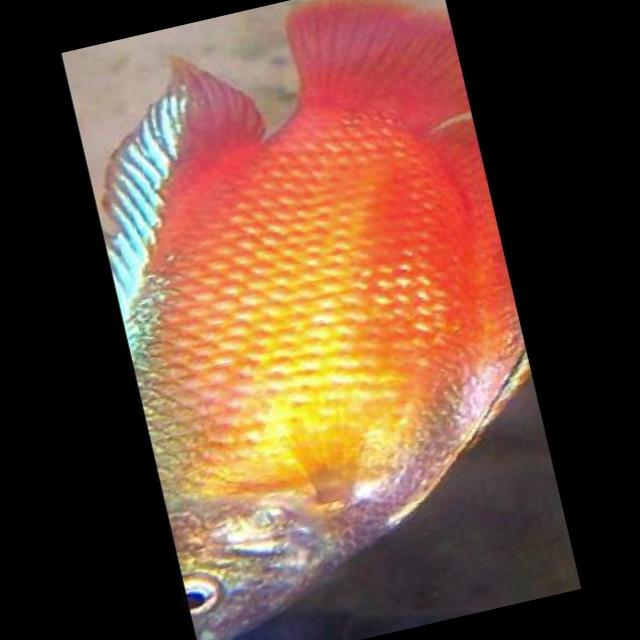Gourami: (59, 0, 575, 640)
